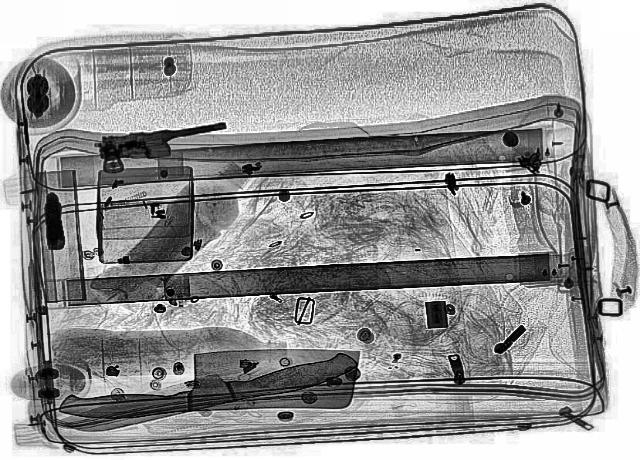Gun: (84, 112, 236, 174), (30, 189, 70, 251)
Knife: (48, 345, 364, 445), (54, 346, 363, 420)
